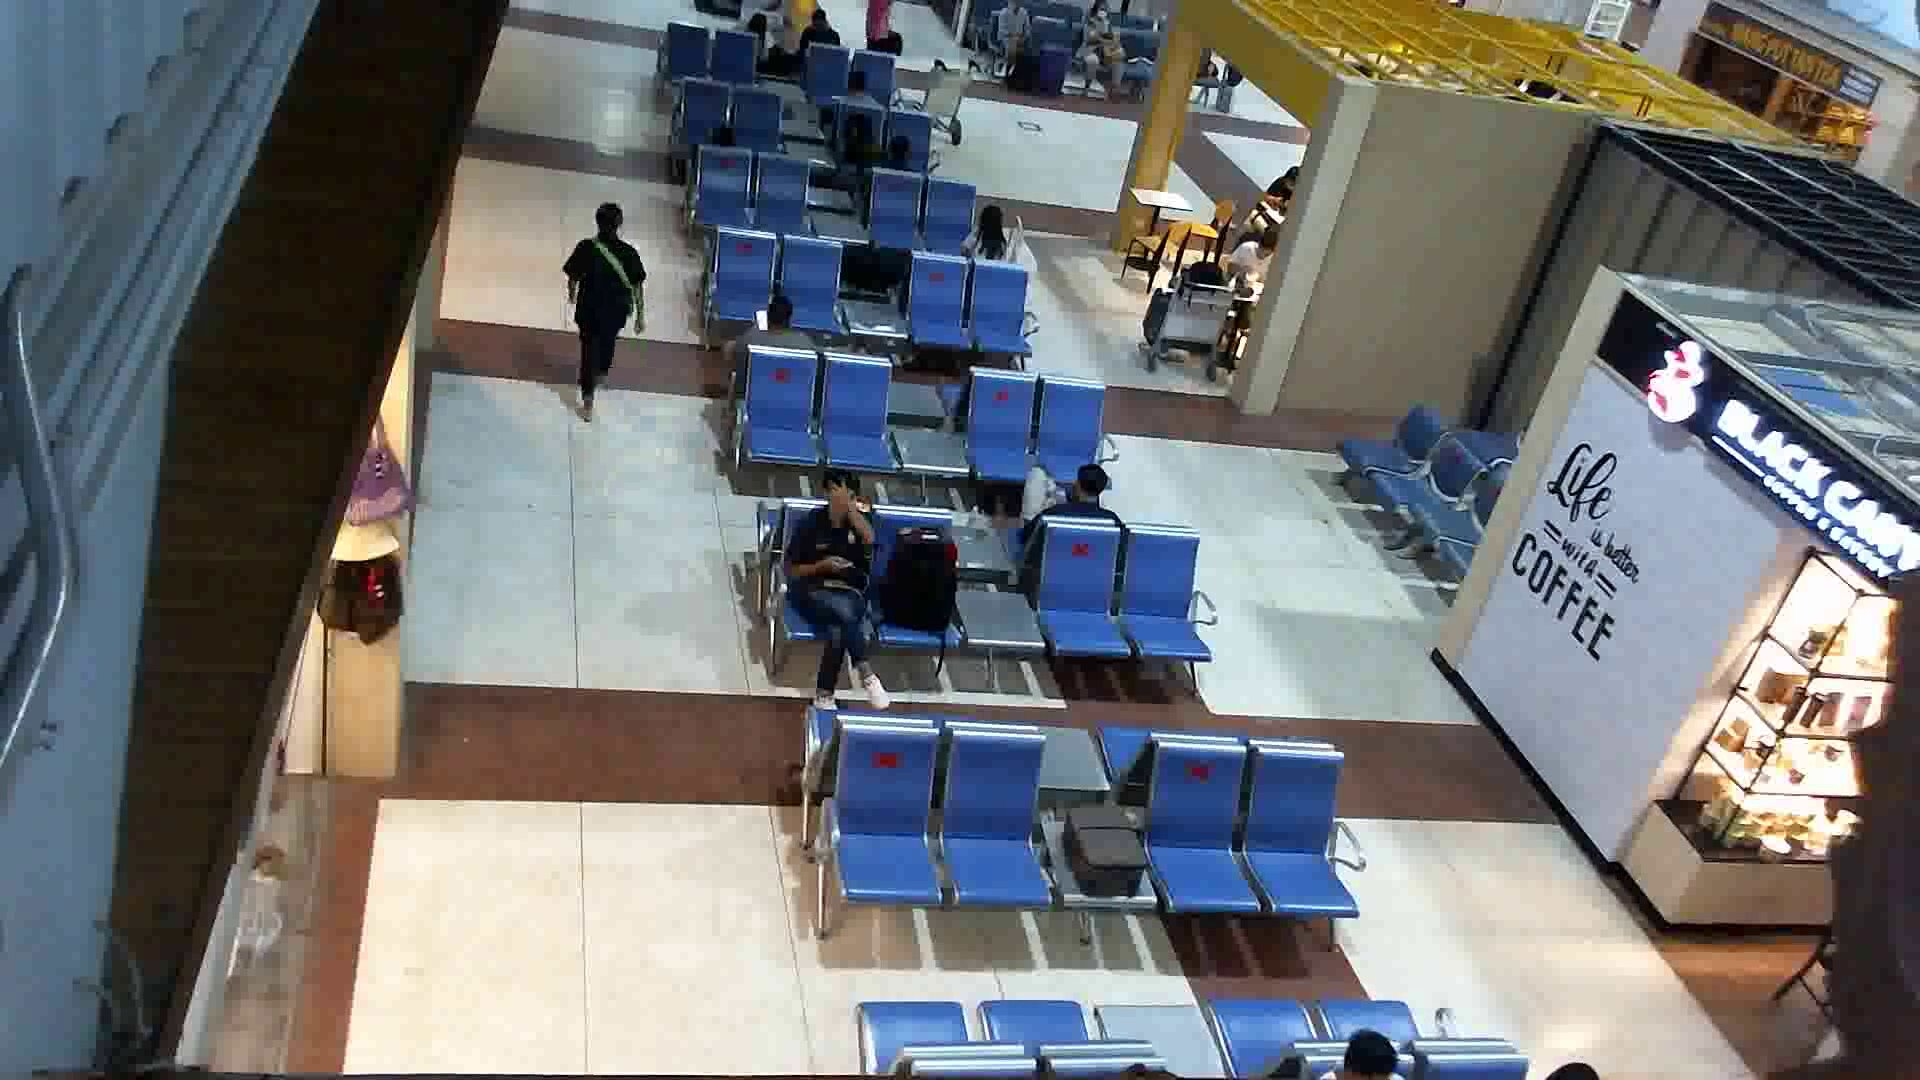luggage: (873, 517, 975, 665), (1059, 794, 1155, 915)
people: (771, 463, 896, 731), (549, 198, 661, 423), (1020, 462, 1133, 543)
